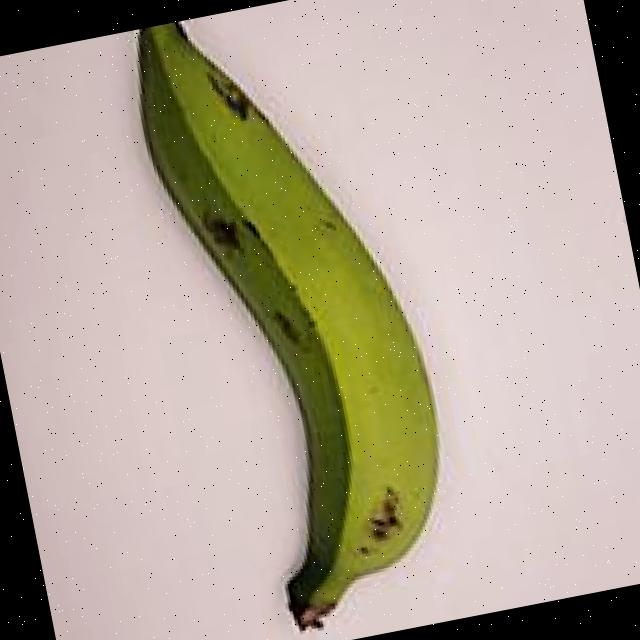Raw: (88, 0, 501, 640)
